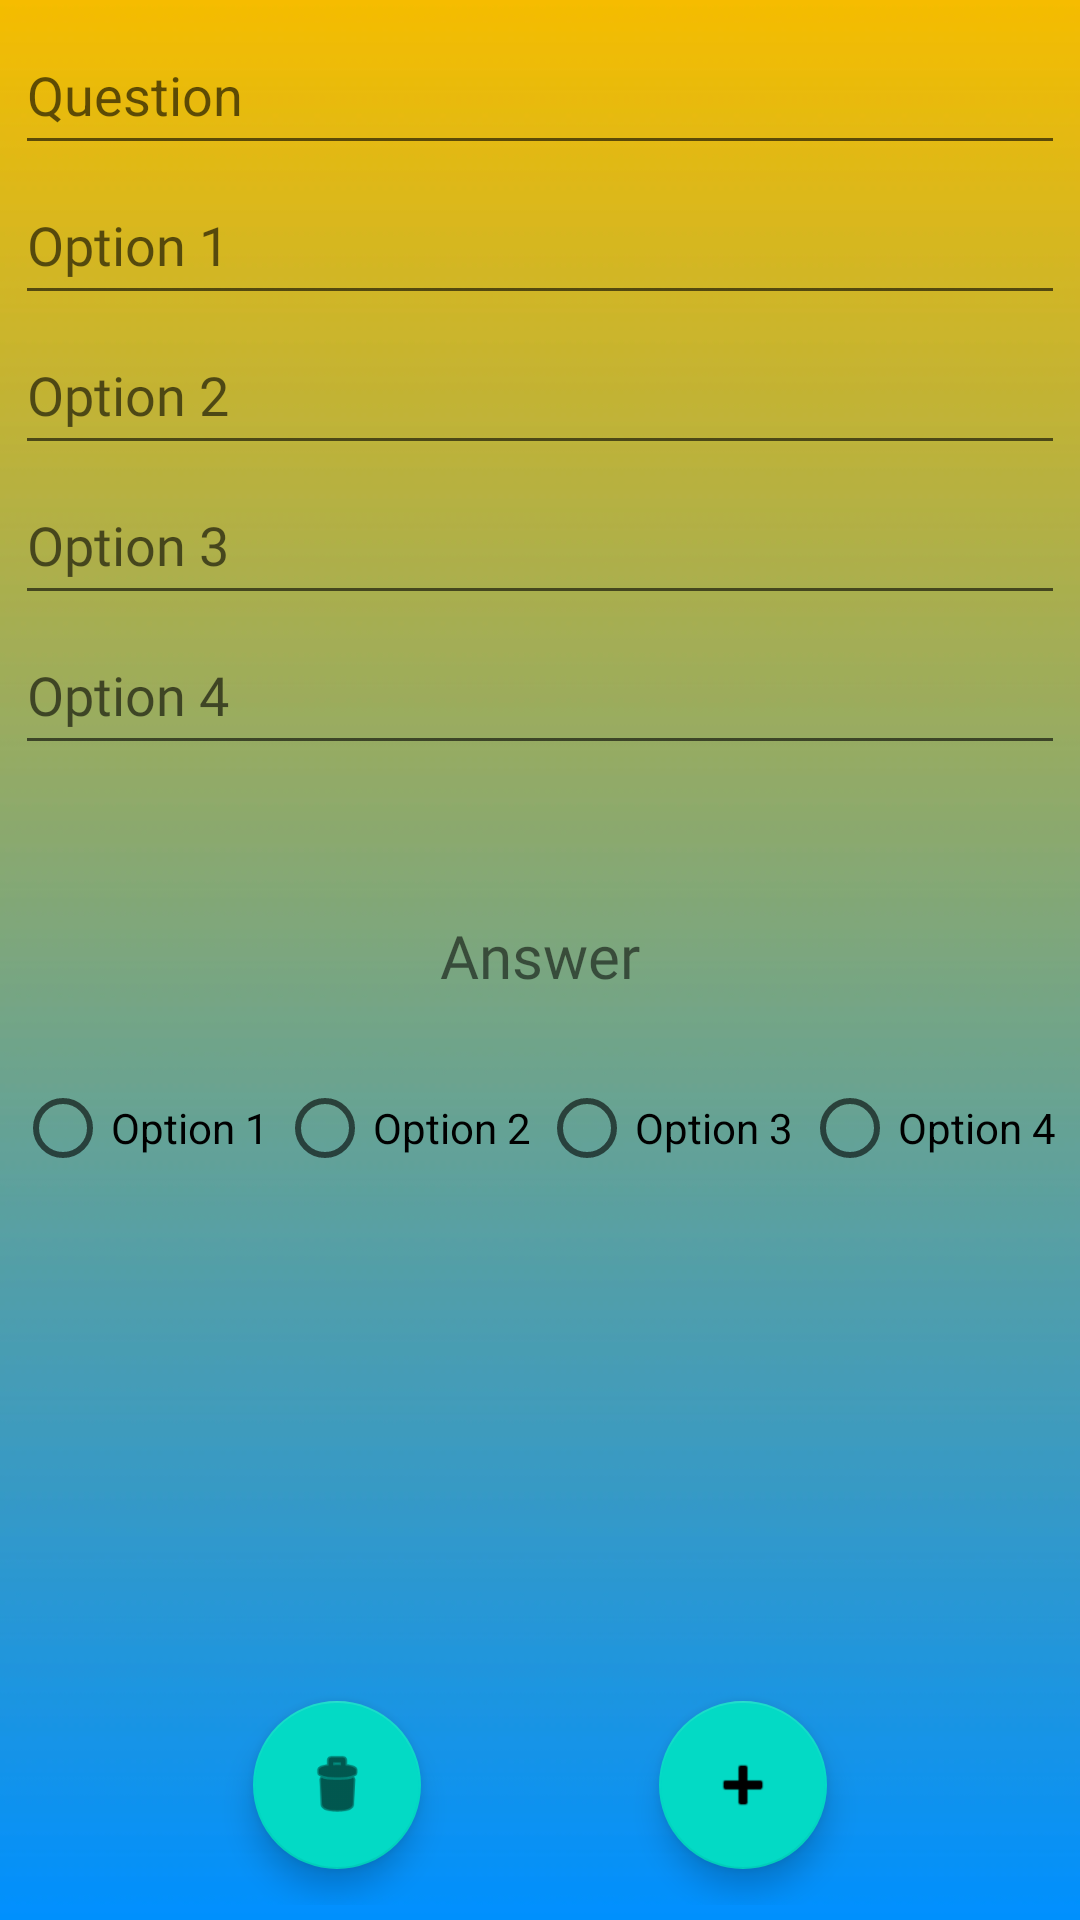

Locate icon controls on the screen. Image size 1080w x 1920h, boxes as [left=x1, top=y1, right=x2, bottom=y2].
Add Button: [left=659, top=1701, right=827, bottom=1869]
Delete button: [left=253, top=1701, right=421, bottom=1869]
